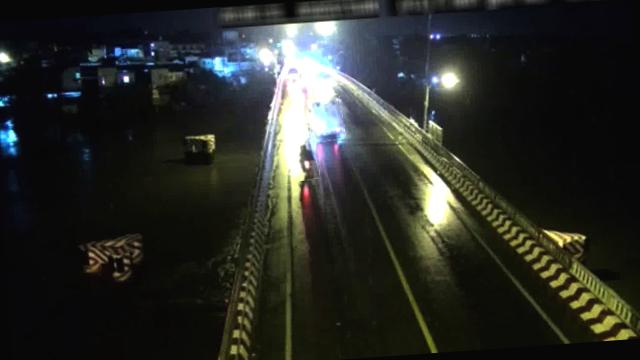Bike: (292, 139, 318, 180)
Truck: (306, 95, 344, 142)
